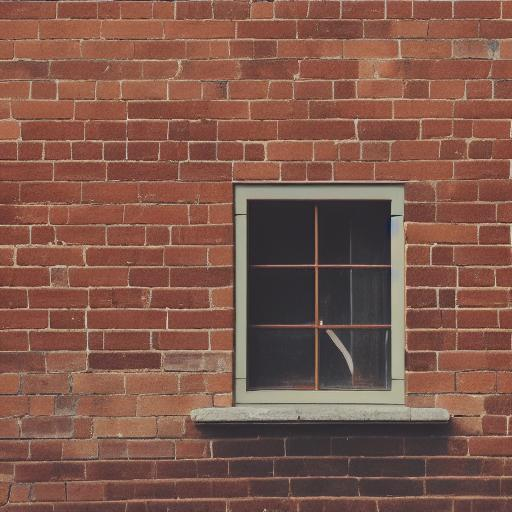Window: (190, 176, 457, 426)
